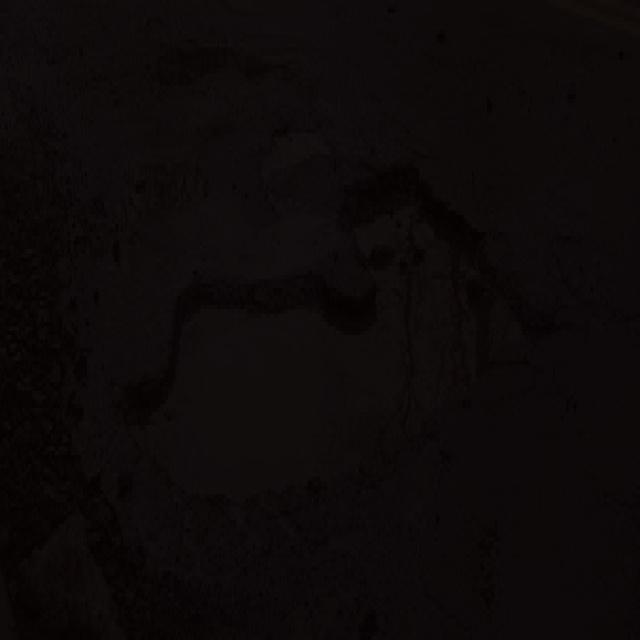Pothole: (118, 158, 556, 546), (165, 44, 298, 107)
